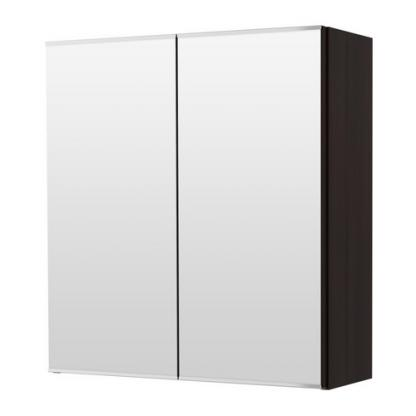Cabinet: (41, 18, 377, 395)
